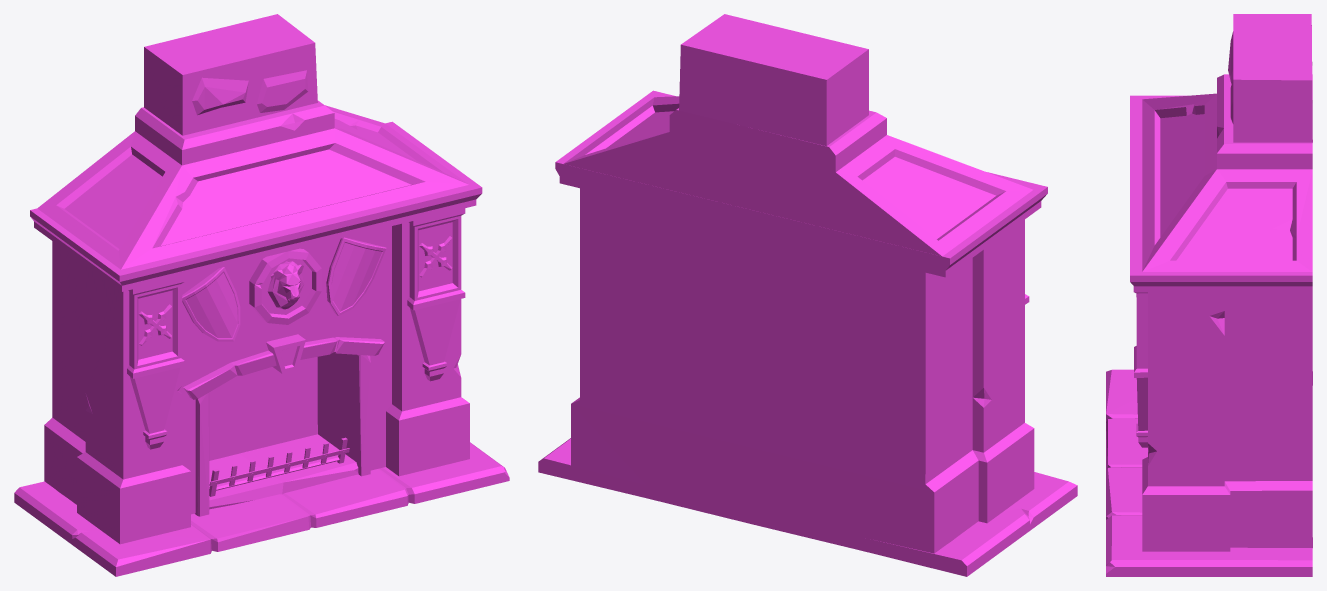
Rendered from SM_Fireplace_Royale_A_Fantasy.fbx.
3 renders of one model, left to right at view 1: azimuth 30°, elevation 25°; view 2: azimuth 150°, elevation 25°; view 3: azimuth 270°, elevation 25°, orthographic. The views are drawn at different scales.
Parts seen in each view (by area): view 1: SM_Fireplace_Royale_A_Fantasy; view 2: SM_Fireplace_Royale_A_Fantasy; view 3: SM_Fireplace_Royale_A_Fantasy.
Part boxes in pixels (x1,y1,x2,y2): SM_Fireplace_Royale_A_Fantasy: (14, 14, 509, 576); SM_Fireplace_Royale_A_Fantasy: (538, 14, 1077, 576); SM_Fireplace_Royale_A_Fantasy: (1106, 14, 1312, 576).
Size of the model in its own units: 2.91 by 3 by 1.3.
